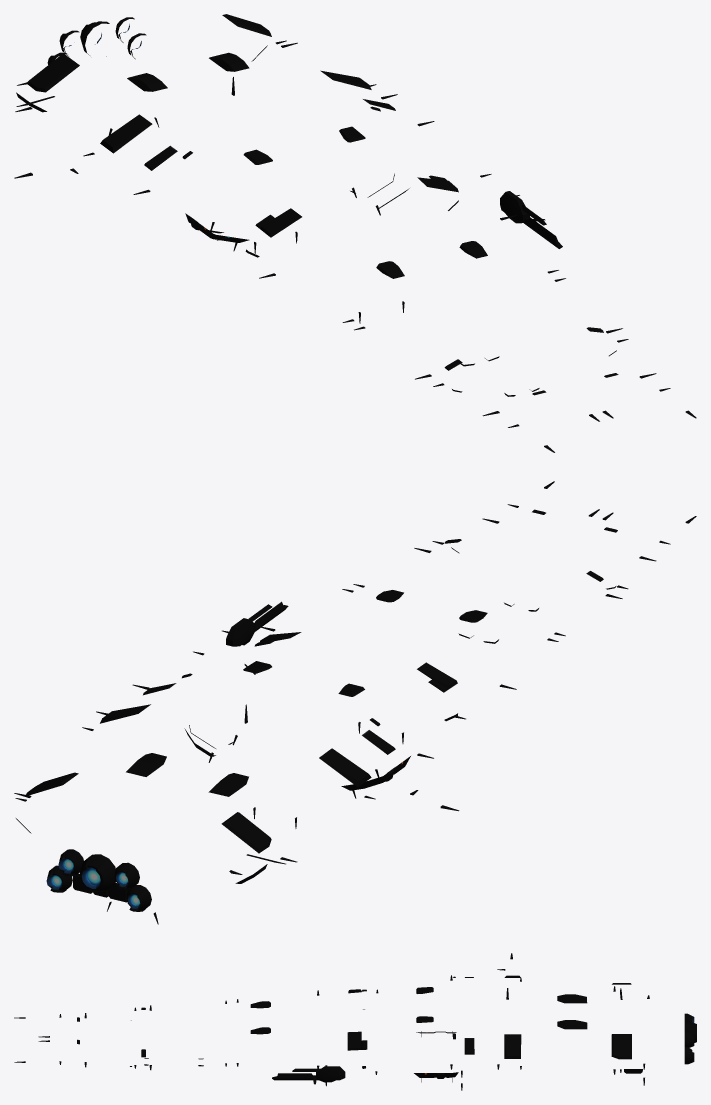
File: hgn_cd_riff_02_t1.glb
3 views of the same model, one above another, from view 1: azimuth 30°, elevation 25°; view 2: azimuth 150°, elevation 25°; view 3: azimuth 270°, elevation 25° (orthographic). The views are drawn at different scales.
Visible parts, largest first — view 1: hgn_flagship_battleship_01_LOD0, sensor_s_03_LOD0, ion_engine_t1_m_01_LOD0; view 2: hgn_flagship_battleship_01_LOD0, ion_engine_t1_m_01_LOD0, sensor_s_03_LOD0; view 3: hgn_flagship_battleship_01_LOD0, sensor_s_03_LOD0, ion_engine_t1_m_01_LOD0.
Part boxes in pixels (<box>): hgn_flagship_battleship_01_LOD0: <box>14,14,696,452</box>; sensor_s_03_LOD0: <box>500,191,562,248</box>; ion_engine_t1_m_01_LOD0: <box>47,17,146,64</box>; hgn_flagship_battleship_01_LOD0: <box>14,481,696,924</box>; ion_engine_t1_m_01_LOD0: <box>46,849,151,911</box>; sensor_s_03_LOD0: <box>226,601,288,646</box>; hgn_flagship_battleship_01_LOD0: <box>14,953,649,1090</box>; sensor_s_03_LOD0: <box>272,1066,345,1084</box>; ion_engine_t1_m_01_LOD0: <box>684,1013,696,1064</box>.
Size of what is drawn, in the model's own units: 7.03 by 2.63 by 17.23.
Materials: 4 (4 with a texture image).
